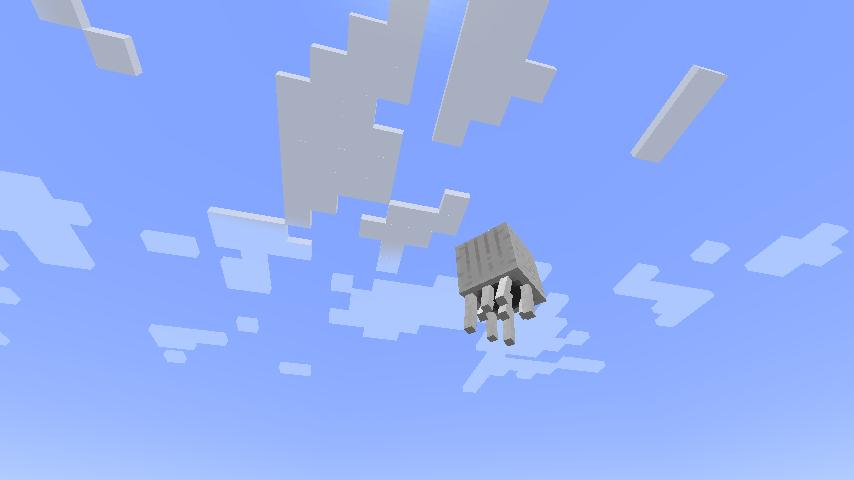ghast: (453, 220, 549, 349)
